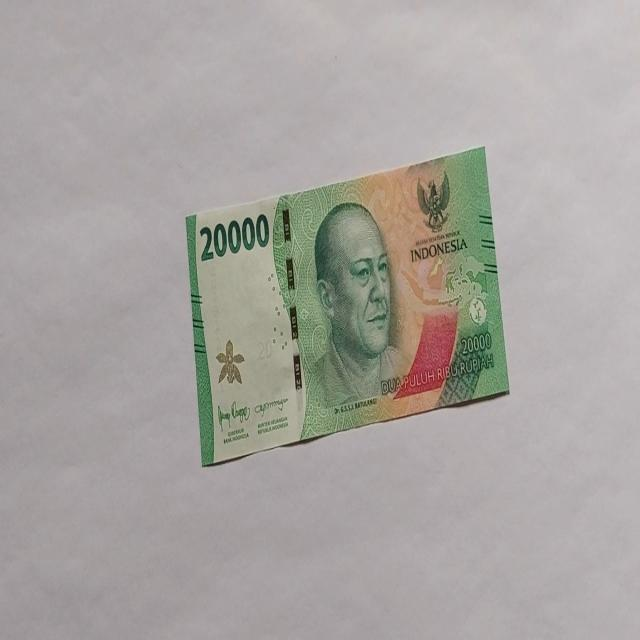dua puluh ribu rupiah: (185, 144, 510, 467), (304, 199, 411, 416)
